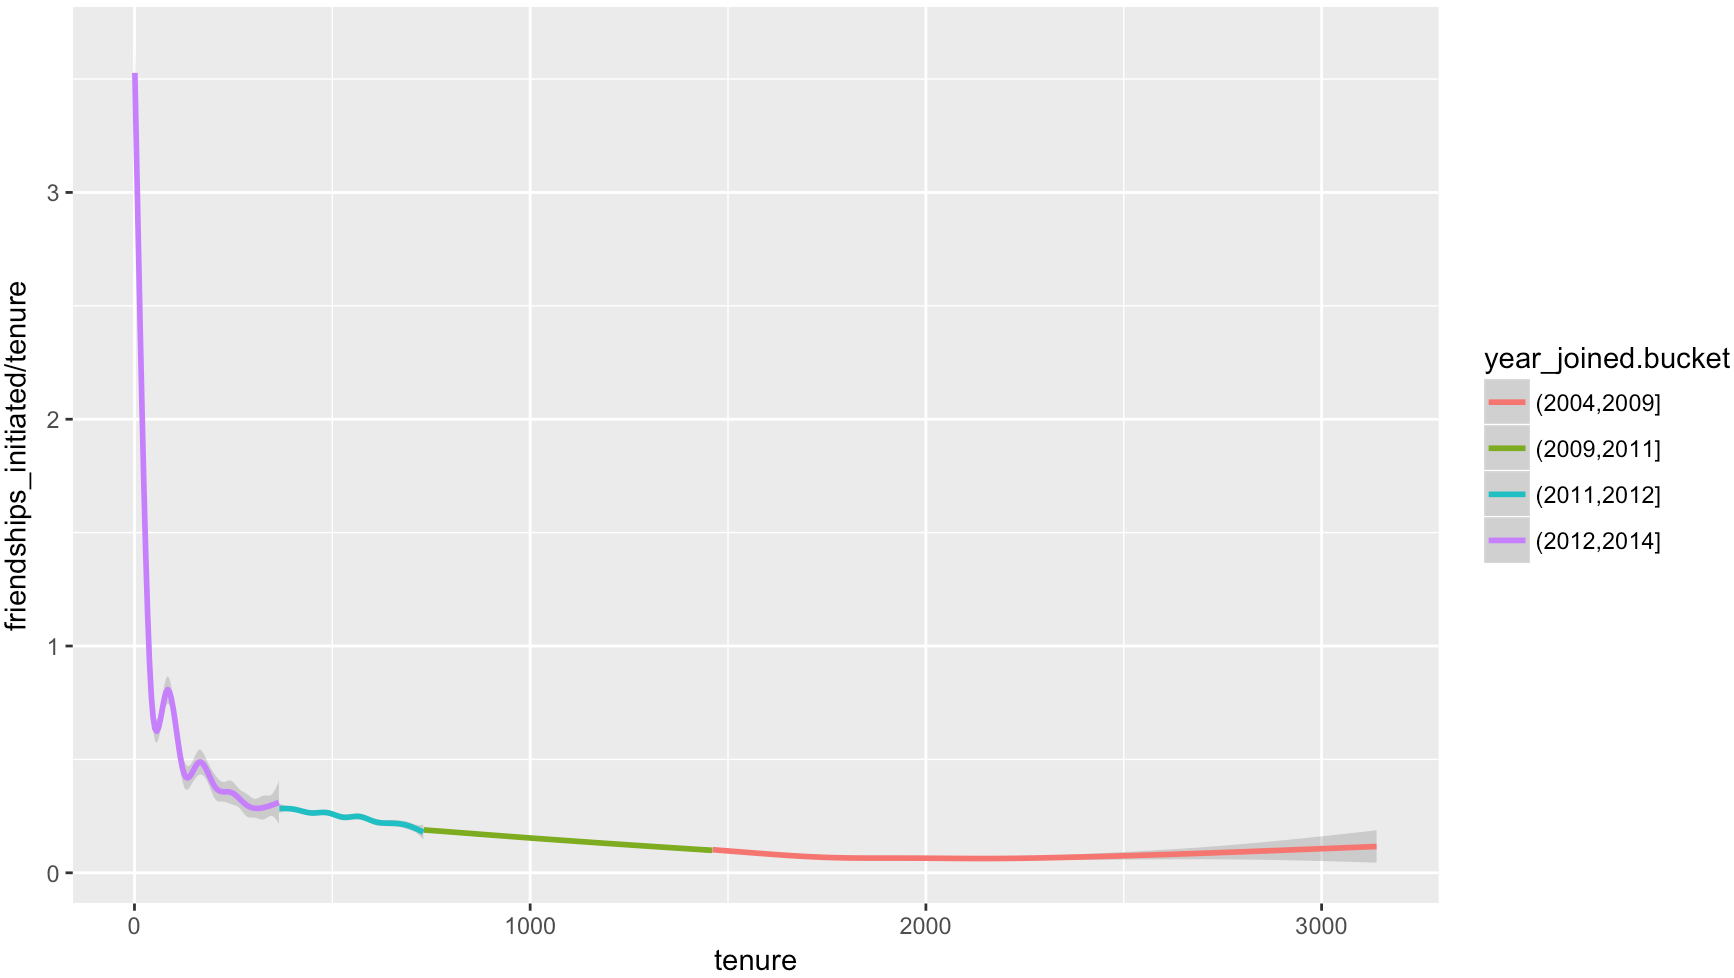

What the dashboard file says about the page in this screenshot:
{"tool":"tableau","page":{"name":"Dashboard 2","canvas":[1000,1000],"units":"permille","ordinal":1},"visuals":[{"type":"worksheet","title":"Sheet 1","mark":"Line","rows":["Rank","Rank"],"cols":["Year"],"box":[0,0,993.9,1000]}]}

Visuals, with their boxes on the dashboard's canvas, which has no fixed pixel size, in thousandths of its width and height (x1, y1, x2, y2). These are canvas units, not pixel positions in the 1734x978 screenshot, which may show the page scaled, cropped or inside an application window:
"Sheet 1" worksheet (Line marks): (0,0,994,1000)
